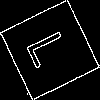L: (25, 24, 79, 70)
